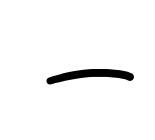minus: (46, 69, 135, 84)
